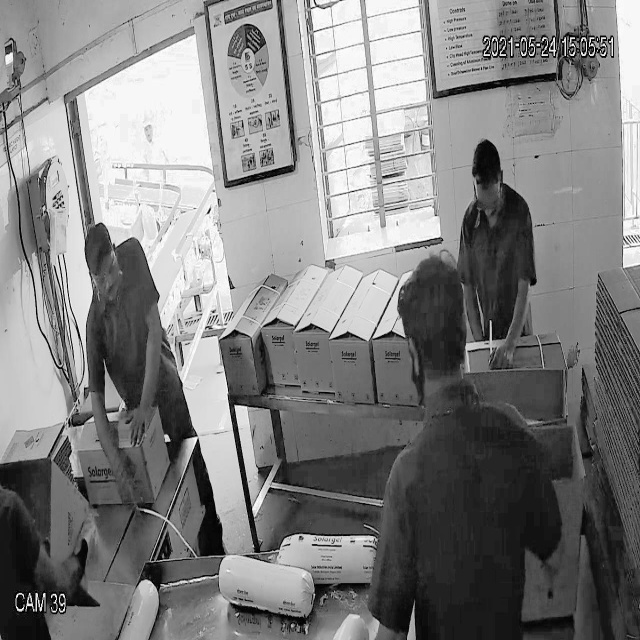Gafas: (84, 259, 121, 291)
